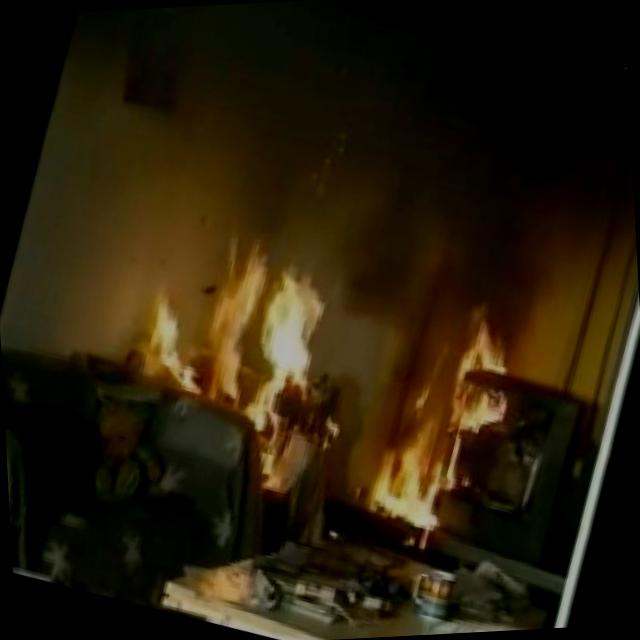fire: (97, 174, 558, 564)
